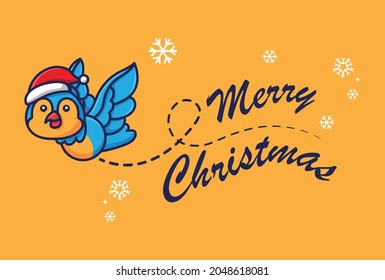bird: (25, 56, 140, 160)
